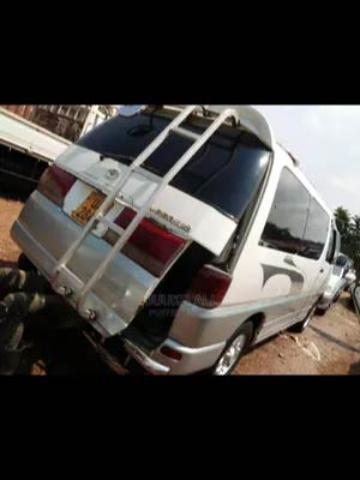van: (10, 107, 340, 372)
